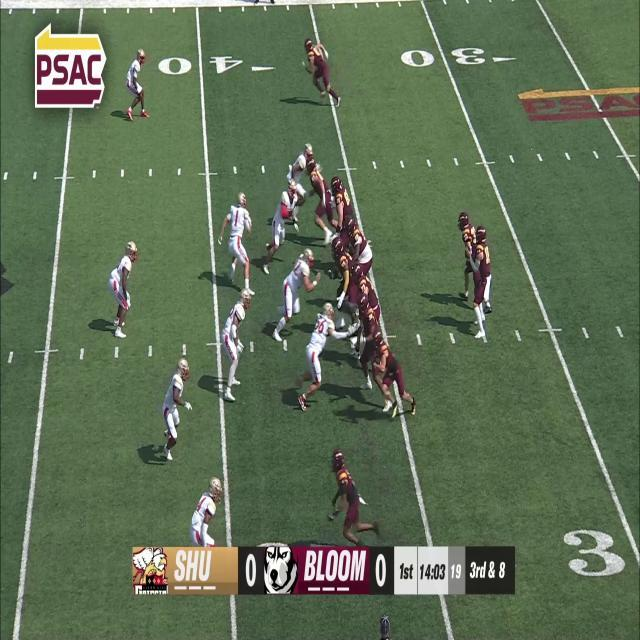football: (463, 245, 472, 260)
